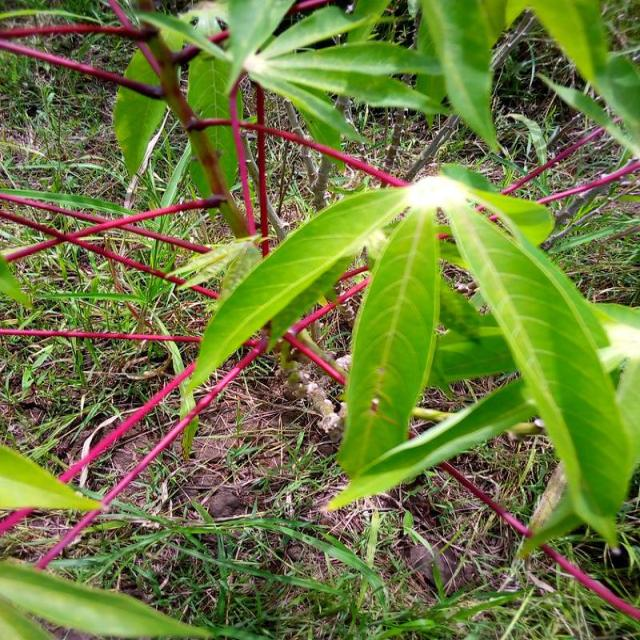cassava leaf: (180, 169, 634, 547), (442, 190, 634, 547), (334, 203, 441, 481)
